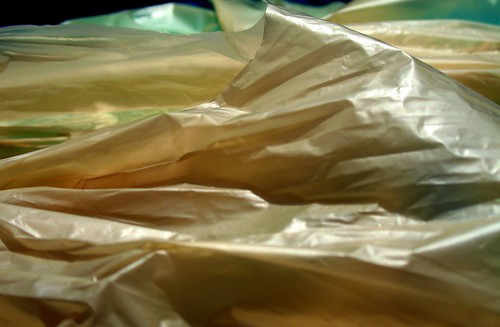plastic bag: (1, 1, 500, 327)
